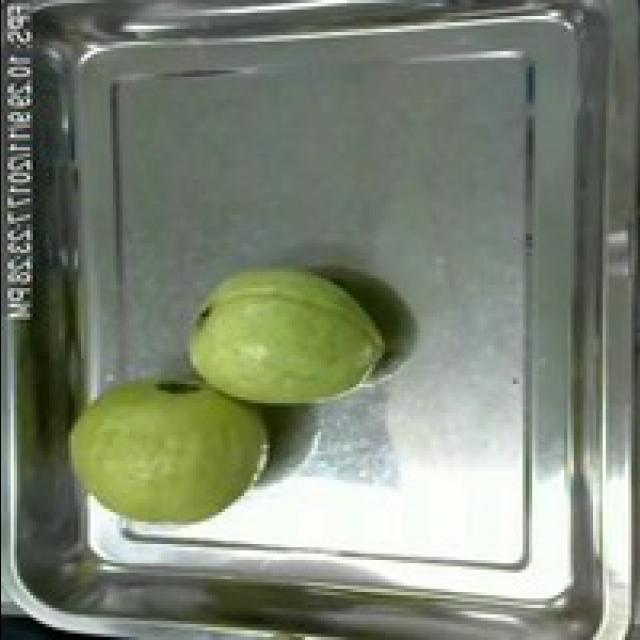Fruit: (52, 364, 278, 550), (176, 253, 394, 419)
